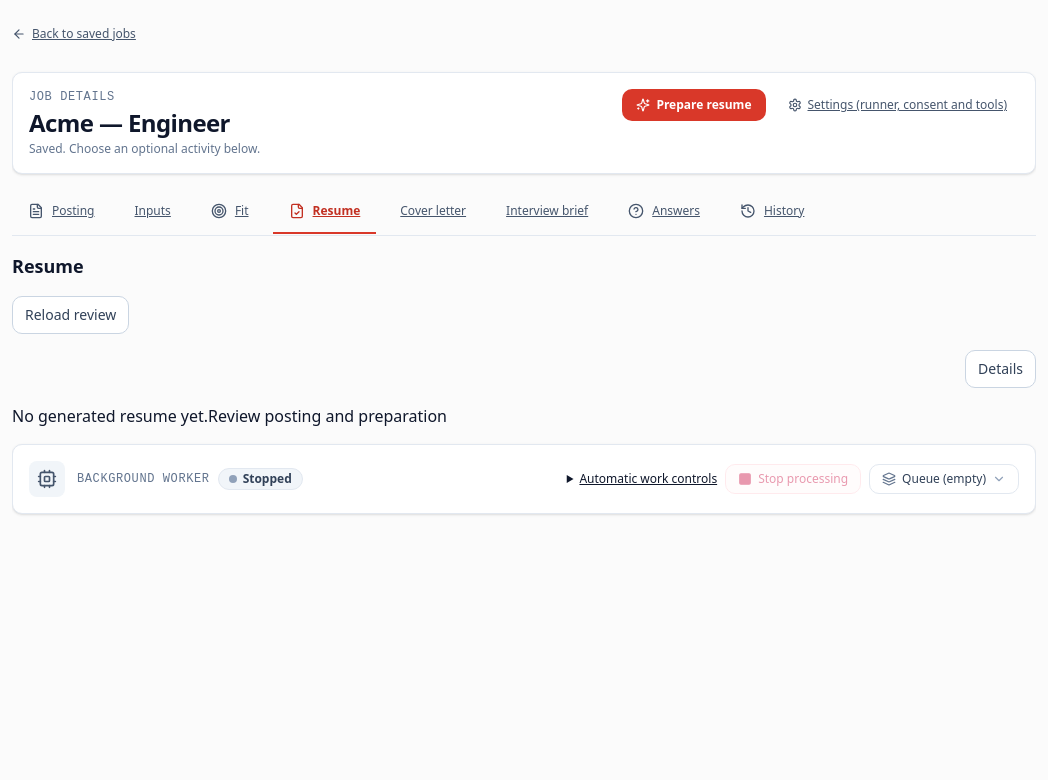
Test: explains how to restart when a start is refused because processing is stopped
This screenshot has width=1048, height=780.
Click the button "Prepare resume" at (694, 105), box x1=622 y1=89 x2=766 y2=121
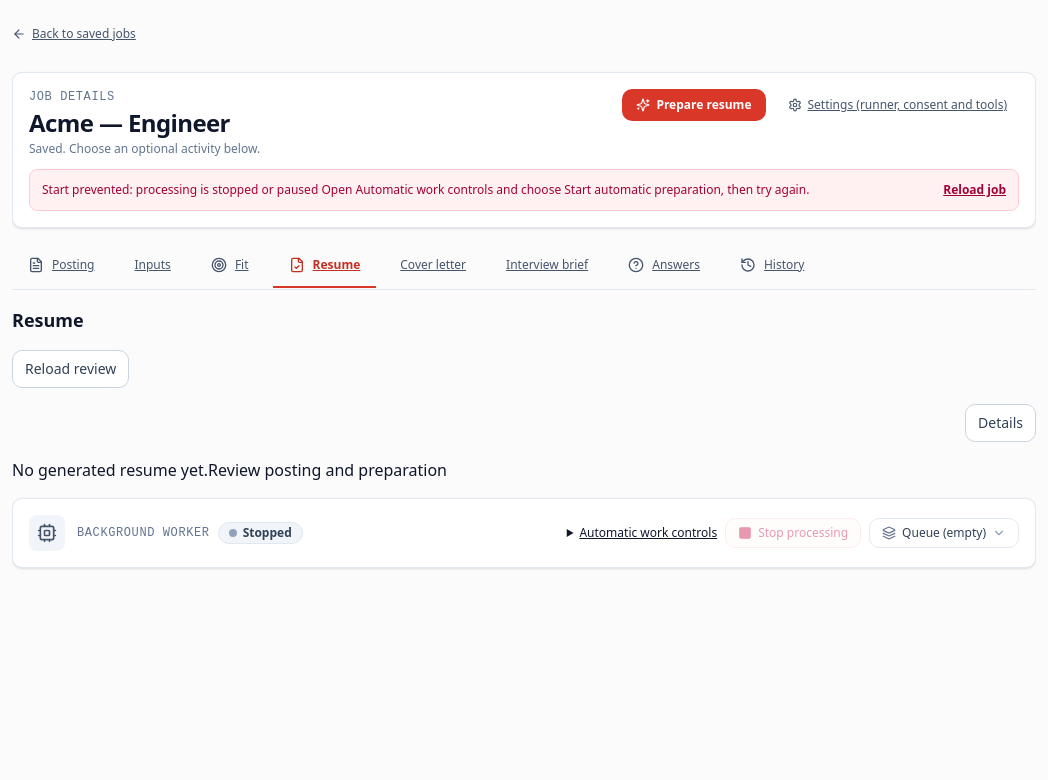
Check: the text "Start prevented" shows "Open Automatic work controls and choose Start automatic preparation, then try again.", box x1=321 y1=181 x2=809 y2=198
